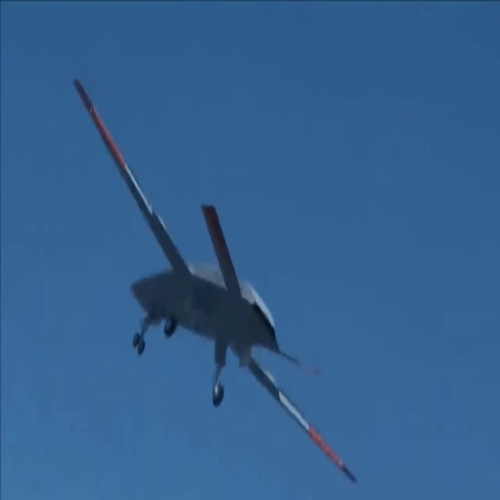uav: (68, 73, 358, 488)
